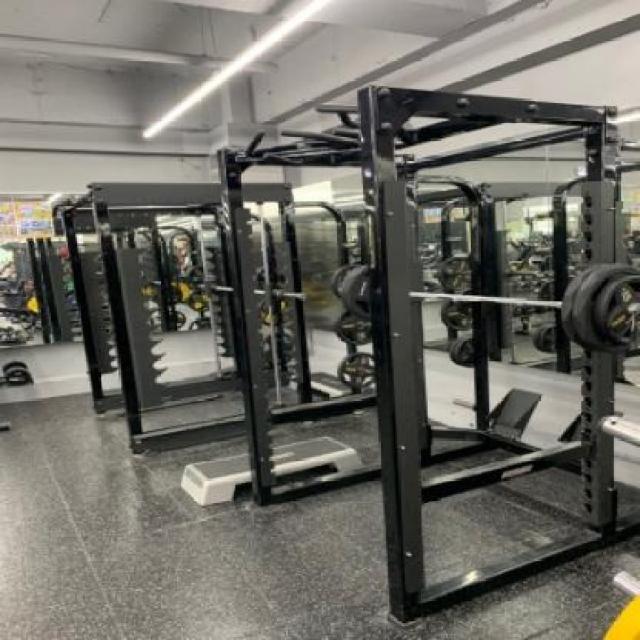smith machine: (215, 85, 640, 629), (51, 183, 311, 454)
